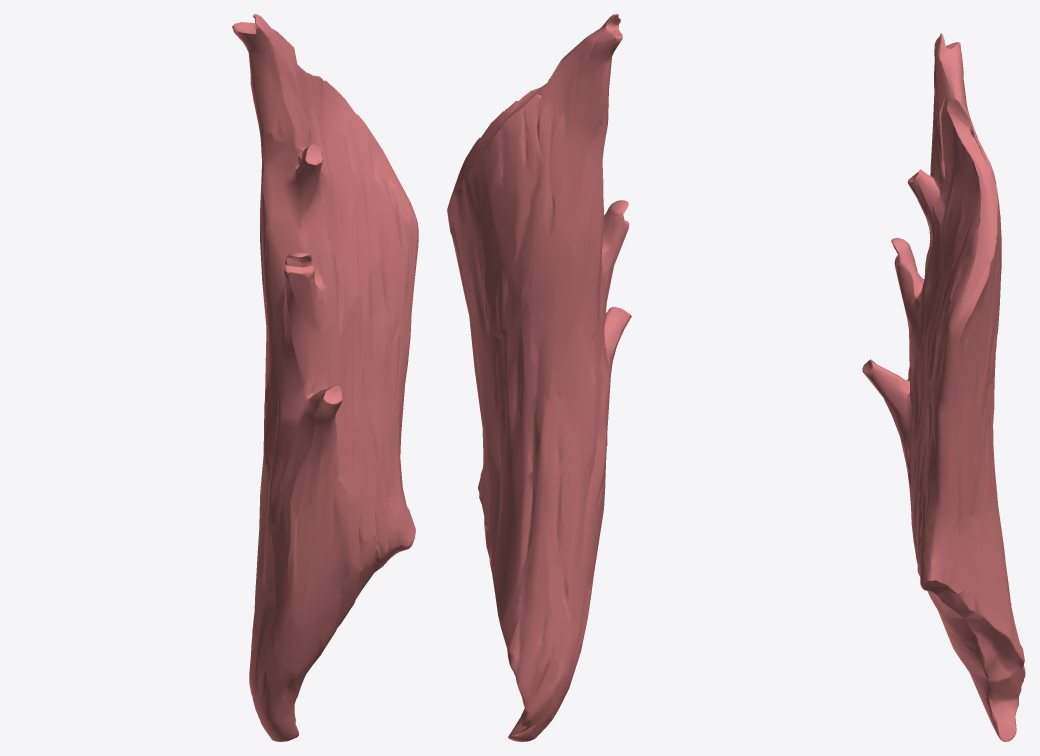
Rendered from BP3D3_FMA22349.glb.
The picture shows the model from 3 angles, left to right: view 1: azimuth 30°, elevation 25°; view 2: azimuth 150°, elevation 25°; view 3: azimuth 270°, elevation 25°; orthographic projection. The views are drawn at different scales.
Parts seen in each view (by area): view 1: BP3D3_FMA22349; view 2: BP3D3_FMA22349; view 3: BP3D3_FMA22349.
Part boxes in pixels (x1=…): BP3D3_FMA22349: x1=232, y1=14, x2=418, y2=741; BP3D3_FMA22349: x1=447, y1=14, x2=631, y2=741; BP3D3_FMA22349: x1=862, y1=33, x2=1025, y2=741.
Bounding box in the file's own units: 0.1075 × 0.1988 × 0.0435.
